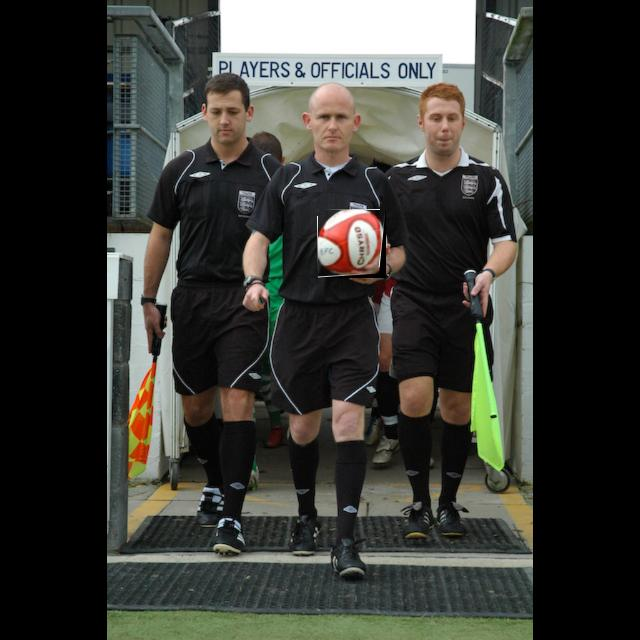Football: (318, 210, 386, 278)
